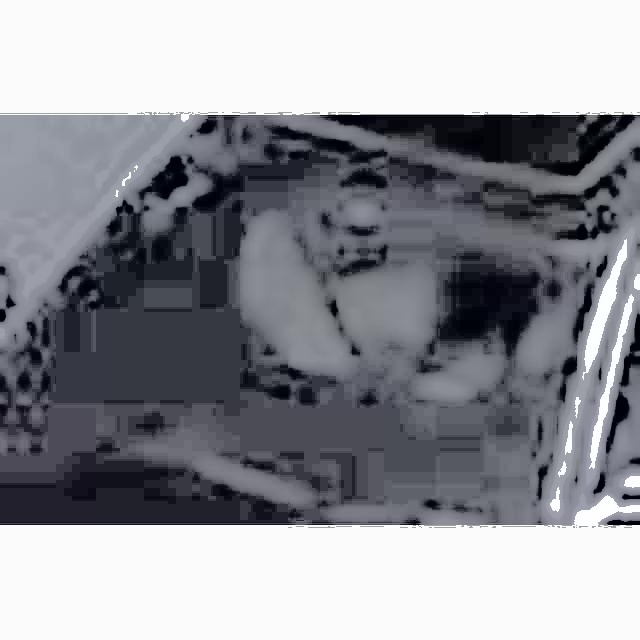pakai: (242, 193, 441, 393)
